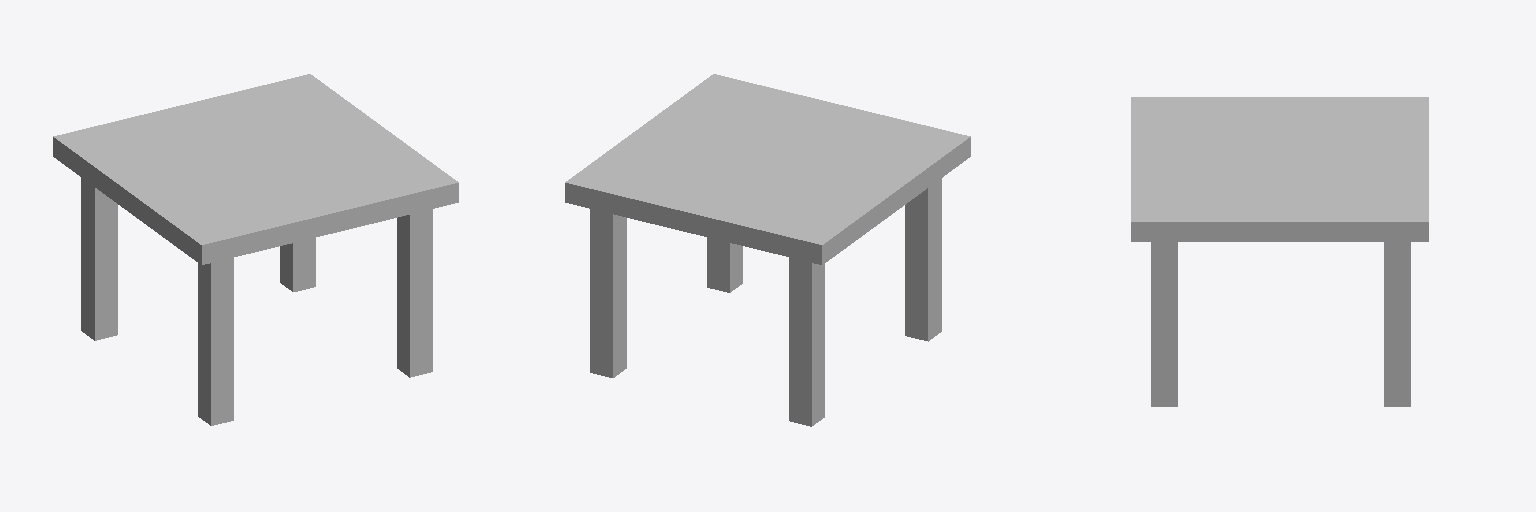
Rendered from Table.obj.
The picture shows the model from 3 angles: view 1: azimuth 30°, elevation 25°; view 2: azimuth 150°, elevation 25°; view 3: azimuth 270°, elevation 25°; orthographic projection.
Visible parts, largest first — view 1: polySurface5; view 2: polySurface5; view 3: polySurface5.
Boxes of the visible parts, x1=… form: polySurface5: x1=53, y1=74, x2=458, y2=425; polySurface5: x1=565, y1=74, x2=970, y2=426; polySurface5: x1=1131, y1=97, x2=1428, y2=406.
Bounding box in the file's own units: 6.09 × 4.36 × 6.09.